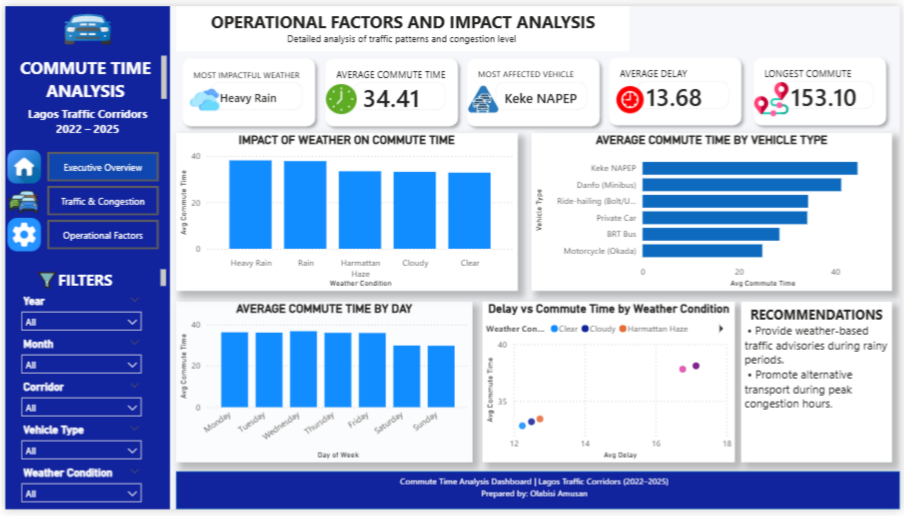

What the dashboard file says about the page in this screenshot:
{"tool":"powerbi","page":{"name":"Operational Factors Analysis","canvas":[1280,720],"ordinal":2},"visuals":[{"type":"group","id":"g1","title":"Group 3","box":[0,0,235.4,719.8],"z":0},{"type":"shape","box":[0,0,235.6,720],"z":0,"group":"g1"},{"type":"shape","box":[854.1,64.7,208,115],"z":0,"group":"g6"},{"type":"shape","box":[1061.3,64.8,208,115],"z":0,"group":"g7"},{"type":"shape","box":[651.1,65.2,208,115],"z":0,"group":"g5"},{"type":"shape","box":[448.1,65.7,208,115],"z":0,"group":"g4"},{"type":"shape","box":[245,66.2,208,115],"z":0,"group":"g3"},{"type":"actionButton","box":[60,209.2,159.5,42.4],"z":0,"group":"g11"},{"type":"actionButton","box":[60,257.5,159.5,42.4],"z":0,"group":"g13"},{"type":"actionButton","box":[60,305.8,159.5,42.4],"z":0,"group":"g14"},{"type":"textbox","box":[0,371,235.4,35.8],"z":0,"group":"g16"},{"type":"shape","box":[244.3,665.7,1035.7,54.3],"z":0,"group":"g15"},{"type":"textbox","box":[0,65.9,235.6,73.2],"z":1000,"group":"g1"},{"type":"cardVisual","fields":{"Data":["Measure.Avg Delay"]},"box":[887.1,90.9,165.2,74.3],"z":1000,"group":"g6"},{"type":"cardVisual","fields":{"Data":["Measure.Longest Commute"]},"box":[1094.3,91,165.2,74.3],"z":1000,"group":"g7"},{"type":"cardVisual","fields":{"Data":["Measure.Most Affected Vehicle"]},"box":[684.1,91.4,165.2,74.3],"z":1000,"group":"g5"},{"type":"cardVisual","fields":{"Data":["Measure.Avg Commute Time"]},"box":[481.1,91.9,165.2,74.3],"z":1000,"group":"g4"},{"type":"cardVisual","fields":{"Data":["Measure.Most Impactful Weather"]},"box":[278,92.4,165.2,74.3],"z":1000,"group":"g3"},{"type":"clusteredColumnChart","title":"IMPACT OF WEATHER ON COMMUTE TIME","fields":{"Category":["commute.Weather Condition"],"Y":["Measure.Avg Commute Time"]},"box":[244.3,181.4,488.6,225.7],"z":1000},{"type":"image","box":[0,206.3,54.1,48.3],"z":1000,"group":"g11"},{"type":"image","box":[0,254.6,54.1,48.3],"z":1000,"group":"g13"},{"type":"image","box":[0,302.9,54.1,48.3],"z":1000,"group":"g14"},{"type":"image","box":[35.1,374.6,48.3,32.2],"z":1000,"group":"g16"},{"type":"textbox","box":[245.7,665.7,1022.9,48.6],"z":1000,"group":"g15"},{"type":"image","box":[0,0,235.6,65.9],"z":2000,"group":"g1"},{"type":"textbox","box":[671.1,82.2,178.6,33.1],"z":2000,"group":"g5"},{"type":"textbox","box":[874.7,82.6,177.5,33],"z":2000,"group":"g6"},{"type":"textbox","box":[1081.9,82.7,177.5,33],"z":2000,"group":"g7"},{"type":"textbox","box":[468.7,83.6,177.5,33],"z":2000,"group":"g4"},{"type":"textbox","box":[265.6,84.1,177.5,33],"z":2000,"group":"g3"},{"type":"clusteredBarChart","title":"AVERAGE COMMUTE TIME BY VEHICLE TYPE","fields":{"Y":["Measure.Avg Commute Time"],"Category":["commute.Vehicle Type"]},"box":[752.9,181.4,515.7,225.7],"z":2000},{"type":"slicer","fields":{"Values":["Calendar.Year"]},"box":[13.2,406.8,191.7,61.5],"z":3000,"group":"g1"},{"type":"clusteredColumnChart","title":"AVERAGE COMMUTE TIME BY DAY","fields":{"Y":["Measure.Avg Commute Time"],"Category":["commute.Day of Week"]},"box":[244.3,422.9,424.3,230],"z":3000},{"type":"slicer","fields":{"Values":["commute.Corridor"]},"box":[13.2,529.8,191.7,61.5],"z":4000,"group":"g1"},{"type":"textbox","box":[244.8,0,649.4,64.8],"z":5000},{"type":"slicer","fields":{"Values":["Calendar.Month"]},"box":[13.2,468.3,191.7,61.5],"z":5000,"group":"g1"},{"type":"group","id":"g2","title":"Group 5","box":[1061.3,64.8,207.4,115.2],"z":6000},{"type":"slicer","fields":{"Values":["commute.Vehicle Type"]},"box":[13.2,591.2,191.7,61.5],"z":6000,"group":"g1"},{"type":"group","id":"g3","title":"Group 4","box":[245,66.2,208,115],"z":6010,"group":"g12"},{"type":"group","id":"g4","title":"Group 4","box":[448.1,65.7,207.8,115.6],"z":6011,"group":"g10"},{"type":"group","id":"g5","title":"Group 4","box":[651.1,65.2,208,115],"z":6012,"group":"g9"},{"type":"group","id":"g6","title":"Group 4","box":[854.1,64.7,207.8,115.6],"z":6013,"group":"g8"},{"type":"group","id":"g7","title":"Group 4","box":[1061.3,64.8,207.8,115.6],"z":6014,"group":"g2"},{"type":"image","box":[861.2,115.2,64.8,38.9],"z":6019,"group":"g8"},{"type":"image","box":[452.1,110.9,56.2,43.2],"z":6020,"group":"g10"},{"type":"image","box":[1069.1,109.6,54.7,49],"z":6021,"group":"g2"},{"type":"image","box":[265,105.1,41.8,59],"z":6022,"group":"g12"},{"type":"image","box":[652.3,108,61.9,47.5],"z":6023,"group":"g9"},{"type":"group","id":"g8","title":"Group 6","box":[854.1,64.7,207.8,115.6],"z":7000},{"type":"slicer","fields":{"Values":["commute.Weather Condition"]},"box":[13.2,652.7,191.7,61.5],"z":7000,"group":"g1"},{"type":"group","id":"g9","title":"Group 7","box":[651.1,65.2,208,115],"z":8000},{"type":"textbox","box":[0,139,235.6,55.6],"z":8000,"group":"g1"},{"type":"group","id":"g10","title":"Group 8","box":[448.1,65.7,207.8,115.6],"z":9000},{"type":"group","id":"g11","title":"Group 1","box":[0,206.3,219.5,48.3],"z":9000,"group":"g1"},{"type":"group","id":"g12","title":"Group 9","box":[245,66.2,208,115],"z":10000},{"type":"group","id":"g13","title":"Group 1","box":[0,254.6,219.5,48.3],"z":10000,"group":"g1"},{"type":"group","id":"g14","title":"Group 1","box":[0,302.9,219.5,48.3],"z":11000,"group":"g1"},{"type":"scatterChart","title":"Delay vs Commute Time by Weather Condition","fields":{"Series":["commute.Weather Condition"],"X":["Measure.Avg Delay"],"Y":["Measure.Avg Commute Time"]},"box":[682.9,422.9,361.4,230],"z":11000},{"type":"textbox","box":[1052.9,422.9,215.7,230],"z":11001},{"type":"group","id":"g15","title":"Group 10","box":[244.3,665.7,1035.7,54.3],"z":11002},{"type":"group","id":"g16","title":"Group 2","box":[0,371,235.4,35.8],"z":12000,"group":"g1"}]}

Visuals, with their boxes in screenshot pixels (x1, y1, x2, y2), scaled from the page's 1280x720 canvas onto the 905x517 screenshot:
"Group 3" group: 0,0,166,516
shape: 0,0,167,516
shape: 604,46,751,129
shape: 750,47,897,129
shape: 460,47,607,129
shape: 317,47,464,130
shape: 173,48,320,130
actionButton: 42,150,155,181
actionButton: 42,185,155,215
actionButton: 42,220,155,250
textbox: 0,266,166,292
shape: 173,478,904,516
textbox: 0,47,167,100
cardVisual - Measure.Avg Delay: 627,65,744,119
cardVisual - Measure.Longest Commute: 774,65,891,119
cardVisual - Measure.Most Affected Vehicle: 484,66,600,119
cardVisual - Measure.Avg Commute Time: 340,66,457,119
cardVisual - Measure.Most Impactful Weather: 197,66,313,120
"IMPACT OF WEATHER ON COMMUTE TIME" clusteredColumnChart: 173,130,518,292
image: 0,148,38,183
image: 0,183,38,217
image: 0,217,38,252
image: 25,269,59,292
textbox: 174,478,897,513
image: 0,0,167,47
textbox: 474,59,601,83
textbox: 618,59,744,83
textbox: 765,59,890,83
textbox: 331,60,457,84
textbox: 188,60,313,84
"AVERAGE COMMUTE TIME BY VEHICLE TYPE" clusteredBarChart: 532,130,897,292
slicer - Calendar.Year: 9,292,145,336
"AVERAGE COMMUTE TIME BY DAY" clusteredColumnChart: 173,304,473,469
slicer - commute.Corridor: 9,380,145,425
textbox: 173,0,632,47
slicer - Calendar.Month: 9,336,145,380
"Group 5" group: 750,47,897,129
slicer - commute.Vehicle Type: 9,425,145,469
"Group 4" group: 173,48,320,130
"Group 4" group: 317,47,464,130
"Group 4" group: 460,47,607,129
"Group 4" group: 604,46,751,129
"Group 4" group: 750,47,897,130
image: 609,83,655,111
image: 320,80,359,111
image: 756,79,795,114
image: 187,75,217,118
image: 461,78,505,112
"Group 6" group: 604,46,751,129
slicer - commute.Weather Condition: 9,469,145,513
"Group 7" group: 460,47,607,129
textbox: 0,100,167,140
"Group 8" group: 317,47,464,130
"Group 1" group: 0,148,155,183
"Group 9" group: 173,48,320,130
"Group 1" group: 0,183,155,217
"Group 1" group: 0,217,155,252
"Delay vs Commute Time by Weather Condition" scatterChart: 483,304,738,469
textbox: 744,304,897,469
"Group 10" group: 173,478,904,516
"Group 2" group: 0,266,166,292
